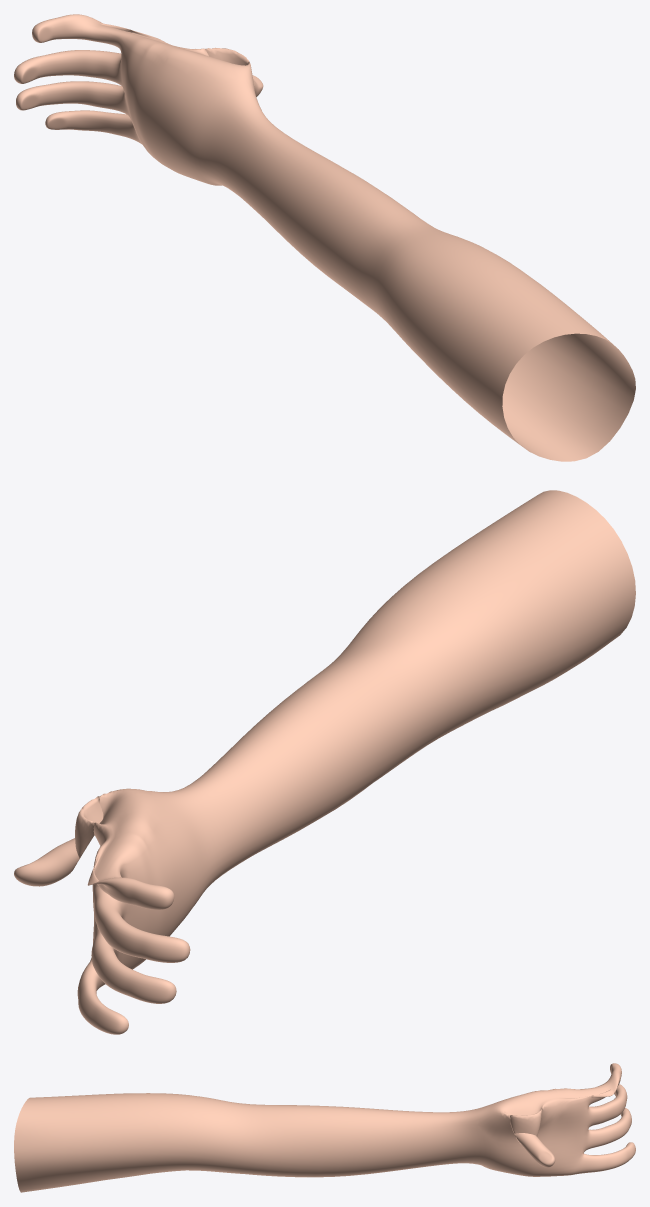
The model's file is braco.glb.
3 views of the same model, one above another, from view 1: azimuth 30°, elevation 25°; view 2: azimuth 150°, elevation 25°; view 3: azimuth 270°, elevation 25° (orthographic). The views are drawn at different scales.
Parts seen in each view (by area): view 1: Braco; view 2: Braco; view 3: Braco.
Part boxes in pixels (x1,y1,x2,y2): Braco: (14,14,635,461); Braco: (14,490,635,1034); Braco: (14,1063,635,1192).
Size of the model in its own units: 0.1154 by 0.0792 by 0.47.
